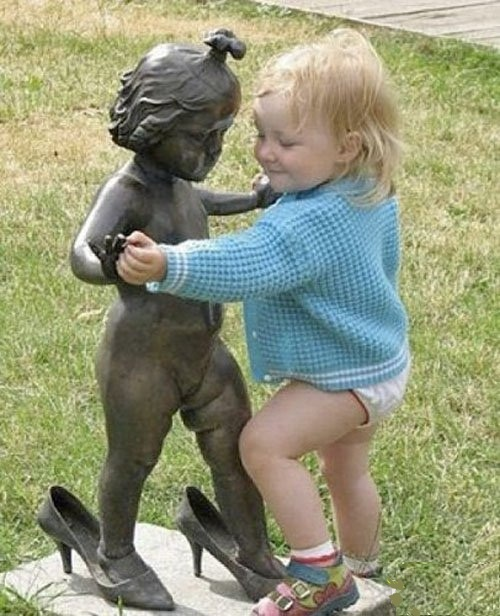person: (113, 25, 416, 613)
person-like: (63, 25, 291, 589)
